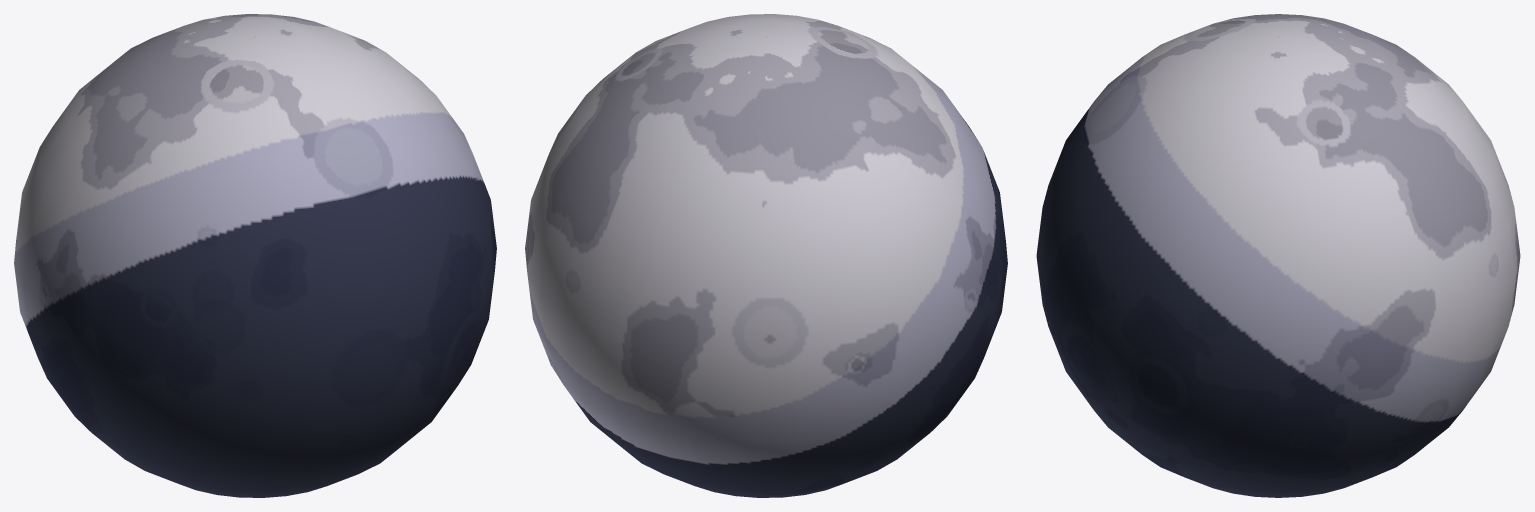
Rendered from moon.glb.
3 renders of one model, left to right at view 1: azimuth 30°, elevation 25°; view 2: azimuth 150°, elevation 25°; view 3: azimuth 270°, elevation 25°, orthographic.
Visible parts, largest first — view 1: moon_surface; view 2: moon_surface; view 3: moon_surface.
Part boxes in pixels (box(x1,y1,x2,y2)): moon_surface: box(14, 14, 496, 497); moon_surface: box(525, 14, 1007, 497); moon_surface: box(1036, 14, 1520, 497).
Bounding box in the file's own units: 36 × 36 × 36.
Materials: 1 (1 with a texture image).
